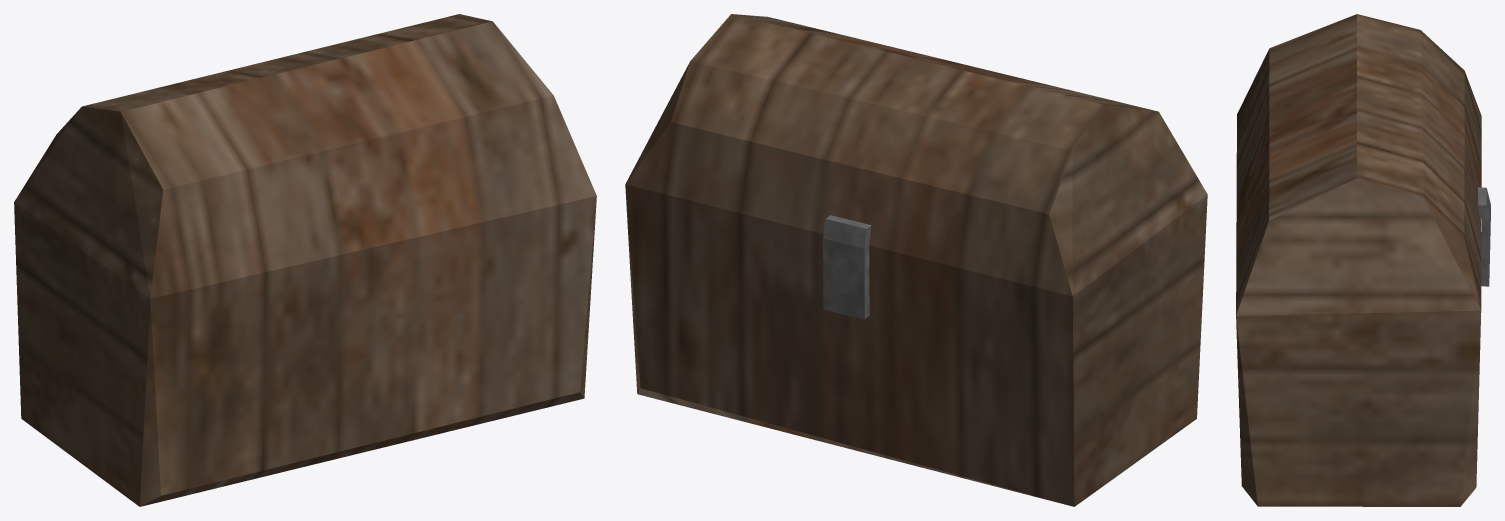
File: Chest.fbx
The picture shows the model from 3 angles, left to right: view 1: azimuth 30°, elevation 25°; view 2: azimuth 150°, elevation 25°; view 3: azimuth 270°, elevation 25°; orthographic projection. The views are drawn at different scales.
Visible parts, largest first — view 1: chest; view 2: chest; view 3: chest.
Boxes of the visible parts, x1,y1,x2,y2 form: chest: (14,14,596,506); chest: (625,14,1207,506); chest: (1236,14,1490,506).
Size of the model in its own units: 0.8788 by 0.6514 by 0.4809.
